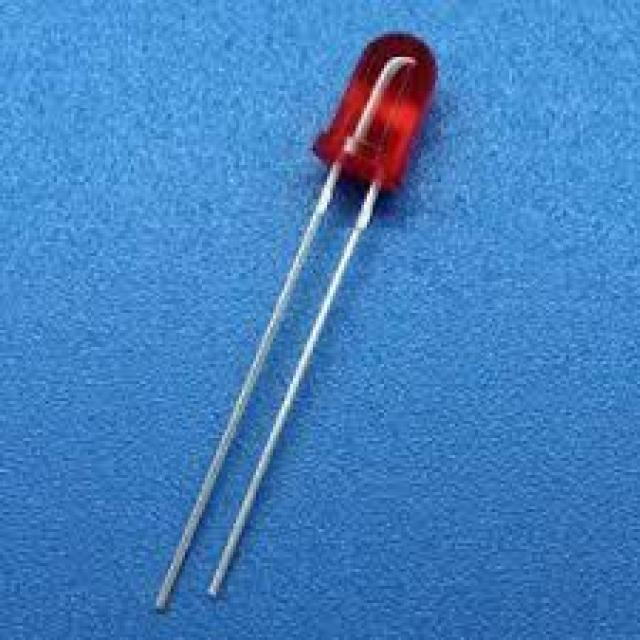Led: (160, 34, 438, 608)
